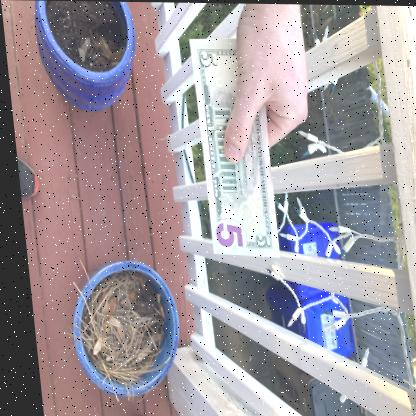five-back: (188, 35, 316, 254)
